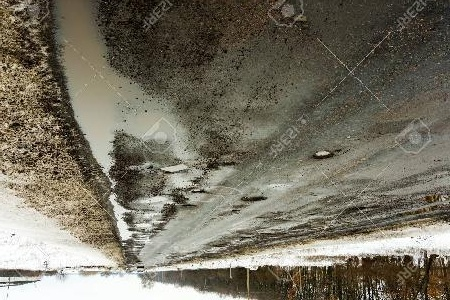pothole: (157, 163, 188, 175), (311, 149, 334, 161), (239, 194, 268, 203), (191, 187, 205, 194)
